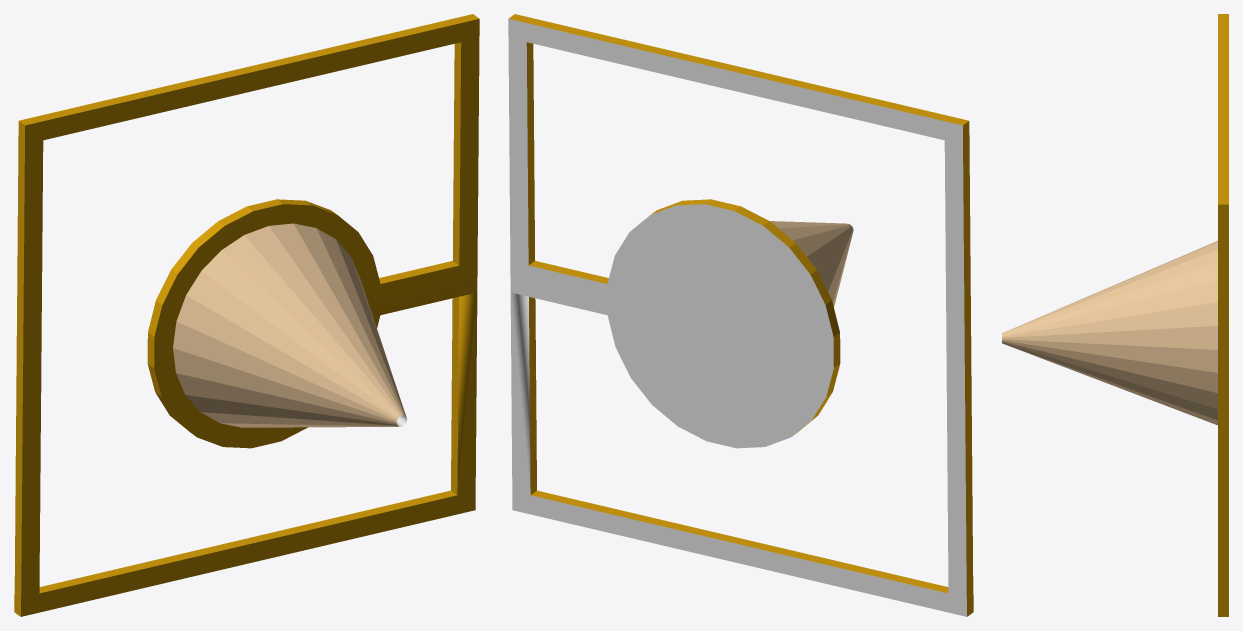
The picture shows the model from 3 angles, left to right: view 1: azimuth 30°, elevation 25°; view 2: azimuth 150°, elevation 25°; view 3: azimuth 270°, elevation 25°; orthographic projection. The views are drawn at different scales.
Parts seen in each view (by area): view 1: Mesh1_Color_C06, Mesh1_Color_C03; view 2: Mesh1_FrontColor, Mesh1_Color_C06, Mesh1_Color_C03; view 3: Mesh1_Color_C03, Mesh1_Color_C06.
Boxes of the visible parts, x1,y1,x2,y2 form: Mesh1_Color_C06: (14,14,479,616); Mesh1_Color_C03: (173,223,406,427); Mesh1_FrontColor: (508,19,966,616); Mesh1_Color_C06: (508,14,973,616); Mesh1_Color_C03: (770,221,853,306); Mesh1_Color_C03: (1002,240,1217,425); Mesh1_Color_C06: (1218,14,1228,616).
Bounding box in the file's own units: 5.31 × 5.47 × 2.69.
